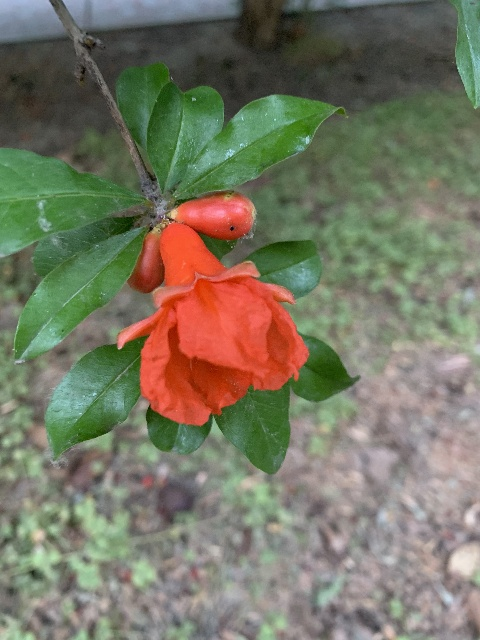bud: (176, 191, 255, 241), (126, 232, 164, 293)
flower: (115, 223, 309, 426)
